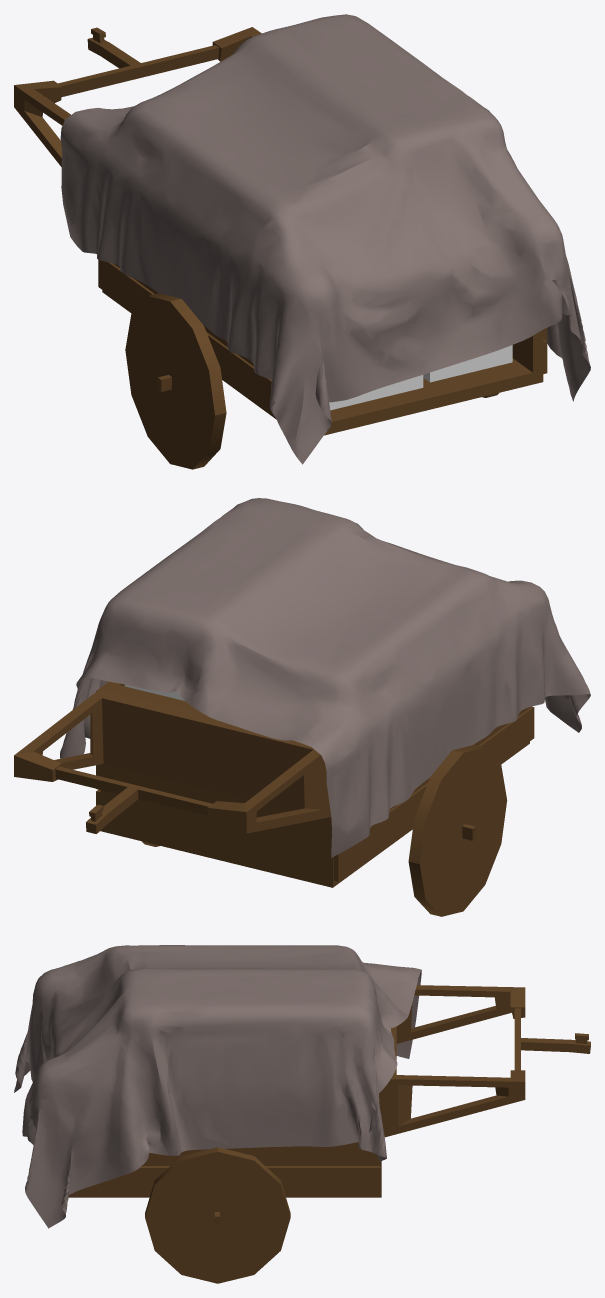
Rendered from รถเข็นเดิน.fbx.
The picture shows the model from 3 angles, top to bottom: view 1: azimuth 30°, elevation 25°; view 2: azimuth 150°, elevation 25°; view 3: azimuth 270°, elevation 25°; orthographic projection. The views are drawn at different scales.
Parts seen in each view (by area): view 1: Plane, Cube, Cylinder, Cube.001, Cube.009, Cube.004; view 2: Plane, Cube, Cylinder, Cube.001; view 3: Plane, Cylinder, Cube, Cube.001.
Boxes of the visible parts, x1=… form: Plane: x1=60, y1=14, x2=590, y2=464; Cube: x1=14, y1=27, x2=543, y2=435; Cylinder: x1=125, y1=293, x2=498, y2=469; Cube.001: x1=98, y1=260, x2=547, y2=415; Cube.009: x1=423, y1=345, x2=512, y2=382; Cube.004: x1=329, y1=375, x2=423, y2=410; Plane: x1=60, y1=498, x2=590, y2=857; Cube: x1=14, y1=682, x2=529, y2=887; Cylinder: x1=142, y1=745, x2=507, y2=916; Cube.001: x1=96, y1=681, x2=534, y2=881; Plane: x1=14, y1=945, x2=421, y2=1228; Cylinder: x1=145, y1=1147, x2=290, y2=1283; Cube: x1=68, y1=985, x2=590, y2=1226; Cube.001: x1=72, y1=1092, x2=380, y2=1193.
Bounding box in the file's own units: 59.06 × 54.84 × 109.
